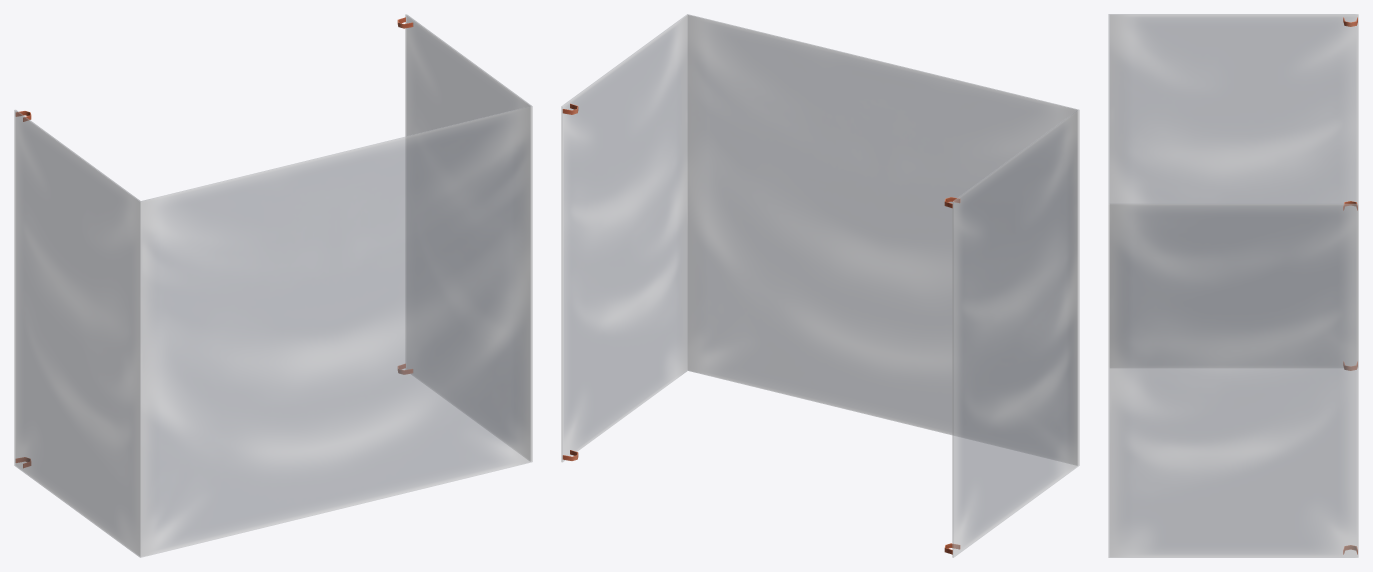
The model's file is jsf_WindShield.fbx.
3 renders of one model, left to right at view 1: azimuth 30°, elevation 25°; view 2: azimuth 150°, elevation 25°; view 3: azimuth 270°, elevation 25°, orthographic.
Parts seen in each view (by area): view 1: WindShield; view 2: WindShield; view 3: WindShield, Hook.
Boxes of the visible parts, left/top/right/bottom form: WindShield: left=14, top=14, right=532, bottom=557; WindShield: left=561, top=14, right=1079, bottom=557; WindShield: left=1108, top=14, right=1358, bottom=557; Hook: left=1343, top=17, right=1357, bottom=554.
Size of the model in its own units: 149 by 130 by 83.13.
